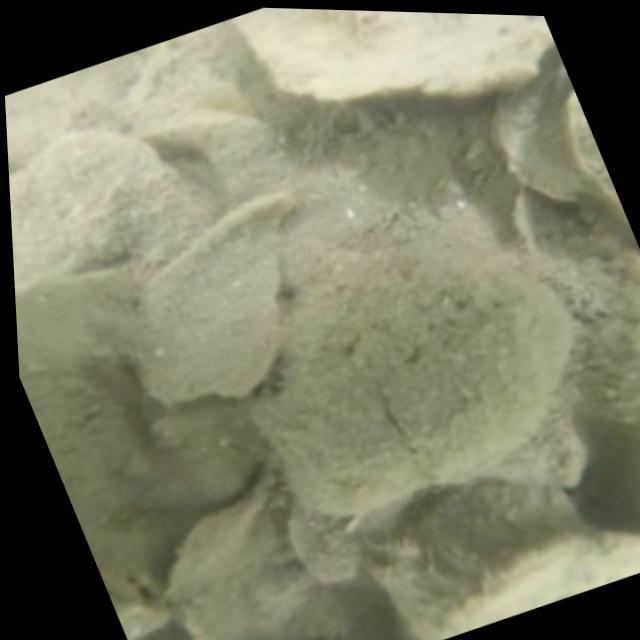Oyster-Indeterminate: (246, 247, 572, 512), (159, 471, 384, 640), (370, 486, 601, 640), (133, 192, 296, 401), (9, 130, 215, 289), (428, 527, 640, 640), (491, 45, 602, 200), (566, 91, 622, 210)
